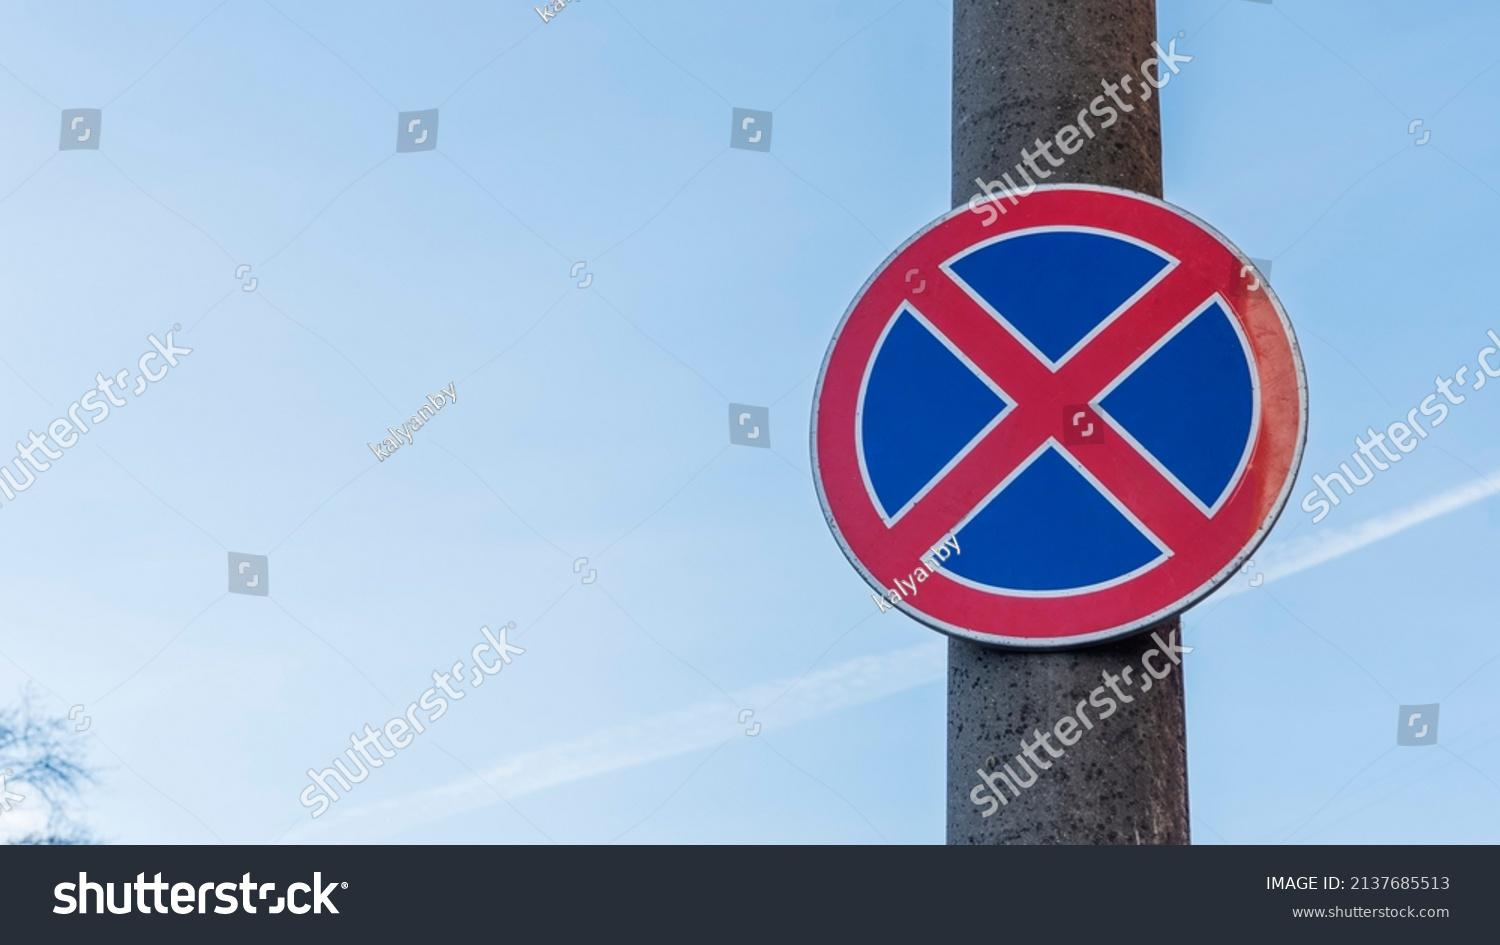No Stopping: (786, 169, 1331, 658)
